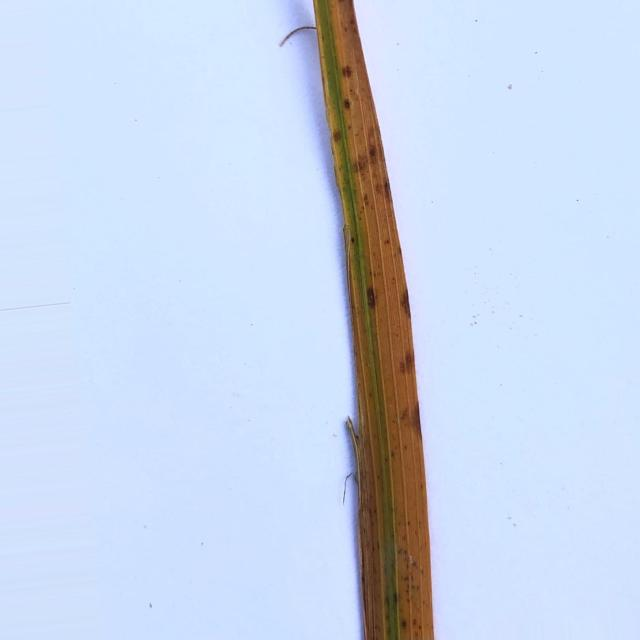Brown_Spot: (399, 351, 415, 380), (411, 410, 422, 439), (404, 290, 410, 317), (367, 288, 375, 308), (341, 66, 352, 78), (397, 590, 405, 606), (333, 130, 341, 142), (401, 618, 408, 631), (368, 148, 377, 156), (344, 99, 351, 109)
Rice Tungro: (314, 0, 433, 639)
